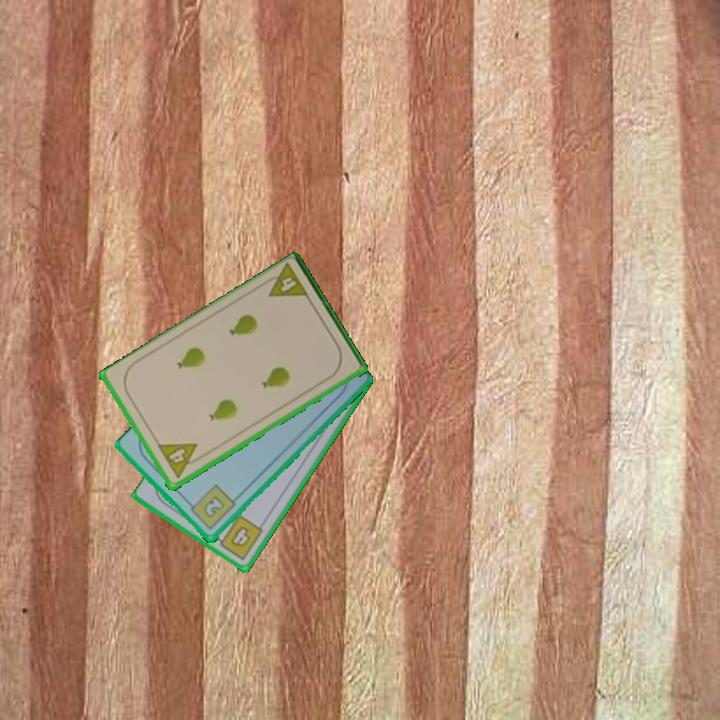2b: (184, 481, 238, 533)
4b: (211, 511, 266, 563)
4p: (258, 261, 312, 302), (155, 440, 206, 482)
